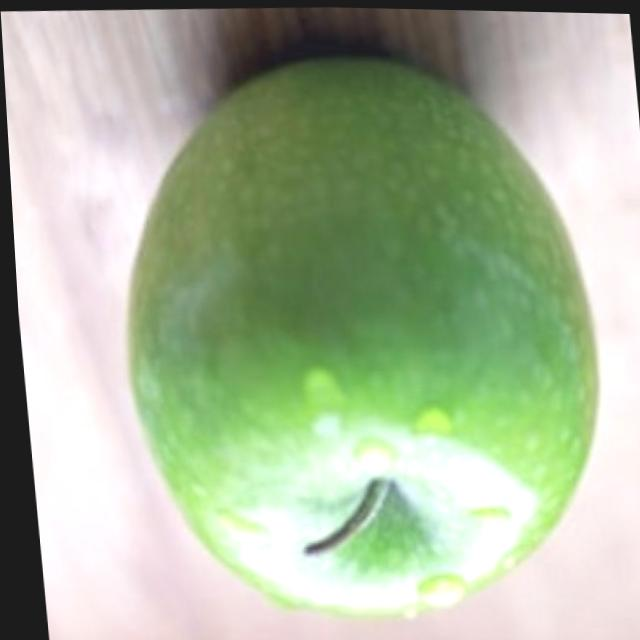Apple: (96, 40, 617, 632)
